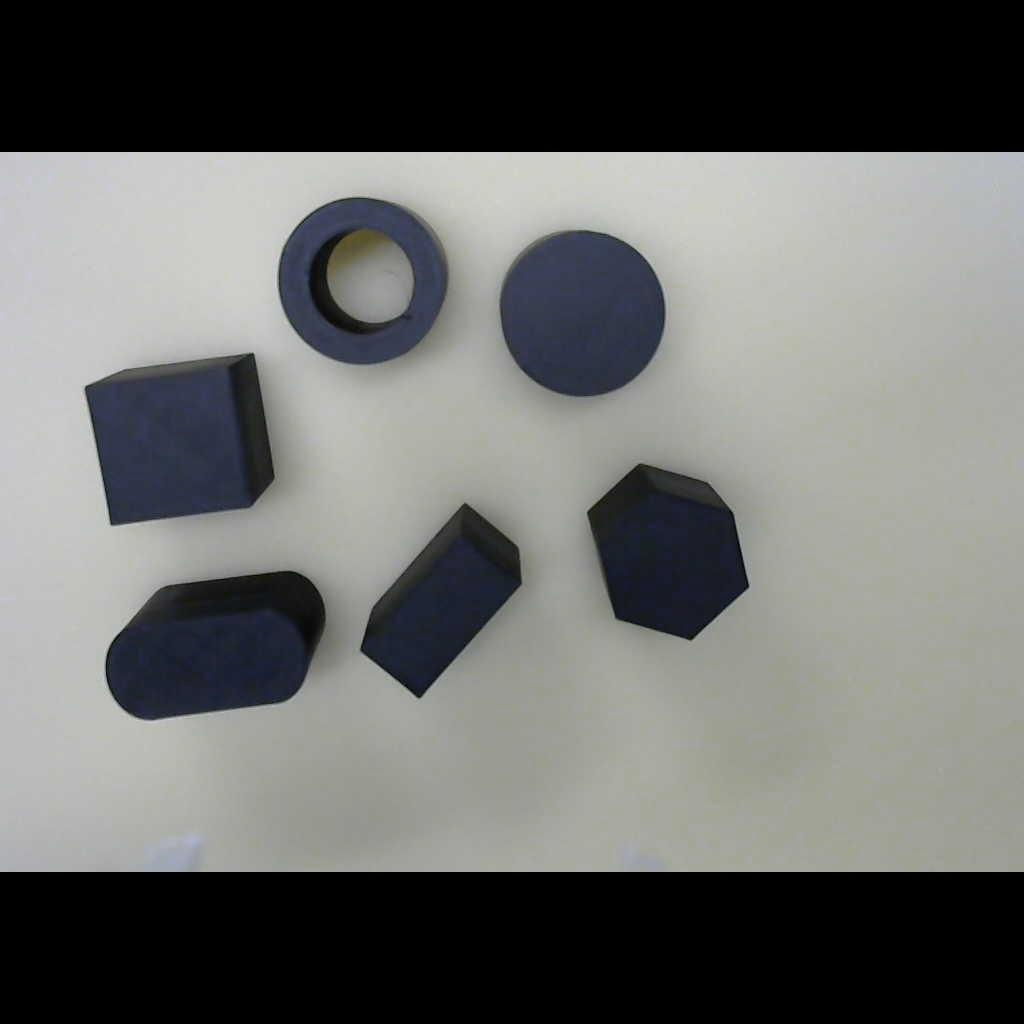circle: (475, 209, 694, 419)
hexagon: (566, 430, 771, 670)
oval: (79, 556, 346, 735)
rectangle: (329, 483, 553, 715)
ring: (264, 188, 462, 374)
square: (57, 324, 302, 555)
